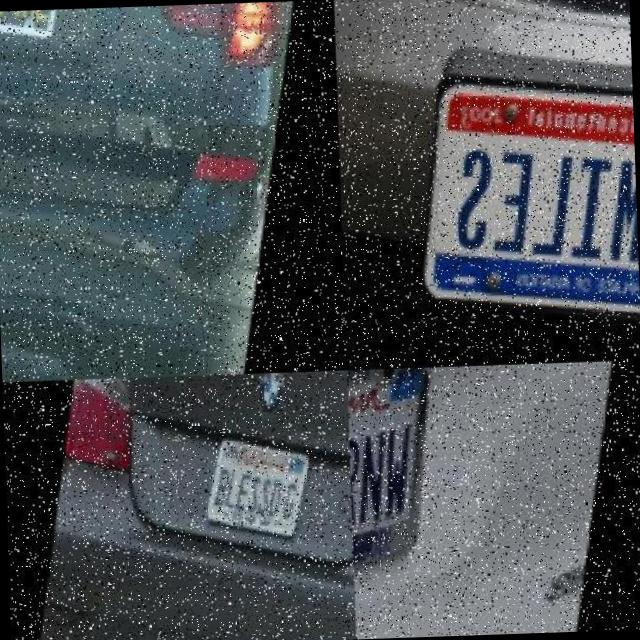LicensePlate: (425, 117, 639, 300), (345, 366, 424, 564), (200, 432, 312, 548), (0, 8, 69, 72)
